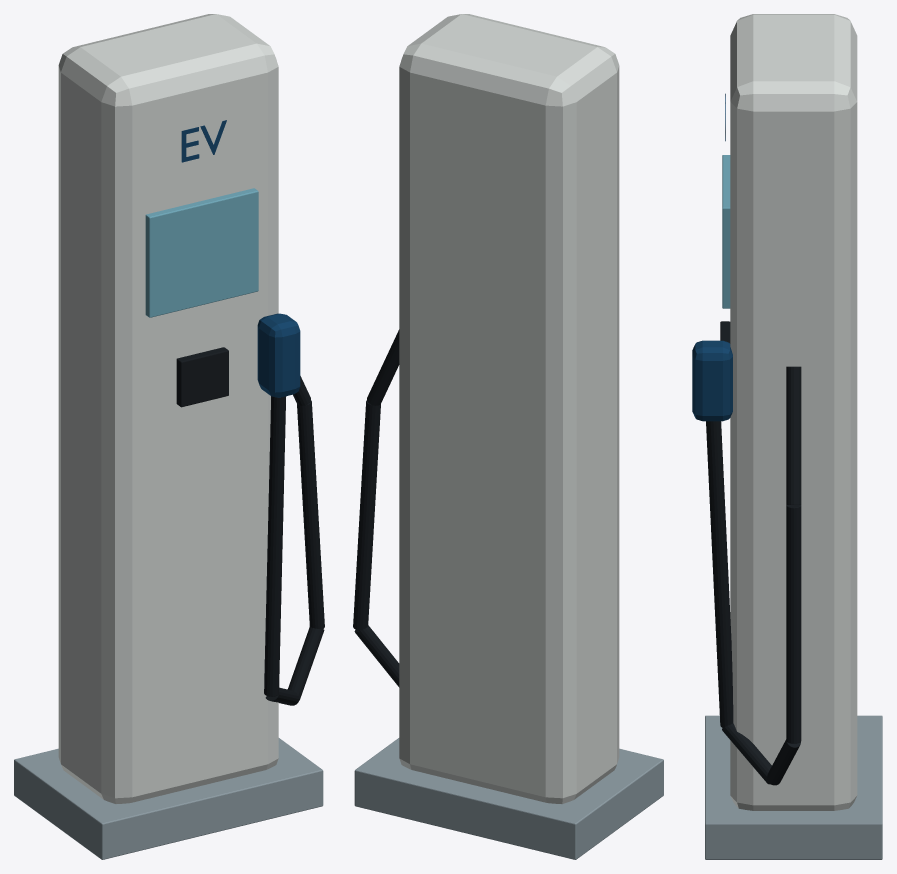
Rendered from edited.glb.
3 renders of one model, left to right at view 1: azimuth 30°, elevation 25°; view 2: azimuth 150°, elevation 25°; view 3: azimuth 270°, elevation 25°, orthographic.
Visible parts, largest first — view 1: BODY, BASE, SCREEN, CABLE, CABLE.002, PLUG, READER, CABLE.003, CHARGE_Label; view 2: BODY, BASE, CABLE.002, CABLE.001, CABLE.003; view 3: BODY, BASE, CABLE, CABLE.002, PLUG, CABLE.001, SCREEN, CABLE.004, CABLE.003.
Boxes of the visible parts, box(x1,y1,x2,y2) form: BODY: box(58, 14, 278, 803); BASE: box(14, 738, 323, 859); SCREEN: box(145, 188, 258, 317); CABLE: box(264, 396, 286, 696); CABLE.002: box(297, 400, 324, 629); PLUG: box(257, 313, 300, 397); READER: box(176, 347, 228, 407); CABLE.003: box(287, 626, 324, 700); CHARGE_Label: box(181, 120, 226, 162); BODY: box(399, 14, 619, 803); BASE: box(354, 738, 663, 859); CABLE.002: box(353, 400, 380, 630); CABLE.001: box(367, 329, 399, 405); CABLE.003: box(354, 625, 399, 687); BODY: box(730, 14, 857, 810); BASE: box(705, 715, 882, 859); CABLE: box(706, 421, 733, 727); CABLE.002: box(786, 505, 801, 743); PLUG: box(692, 340, 732, 421); CABLE.001: box(786, 366, 801, 504); SCREEN: box(722, 155, 730, 308); CABLE.004: box(722, 723, 771, 784); CABLE.003: box(767, 739, 800, 785).
Size of the model in its own units: 0.6079 by 1.65 by 0.375.
